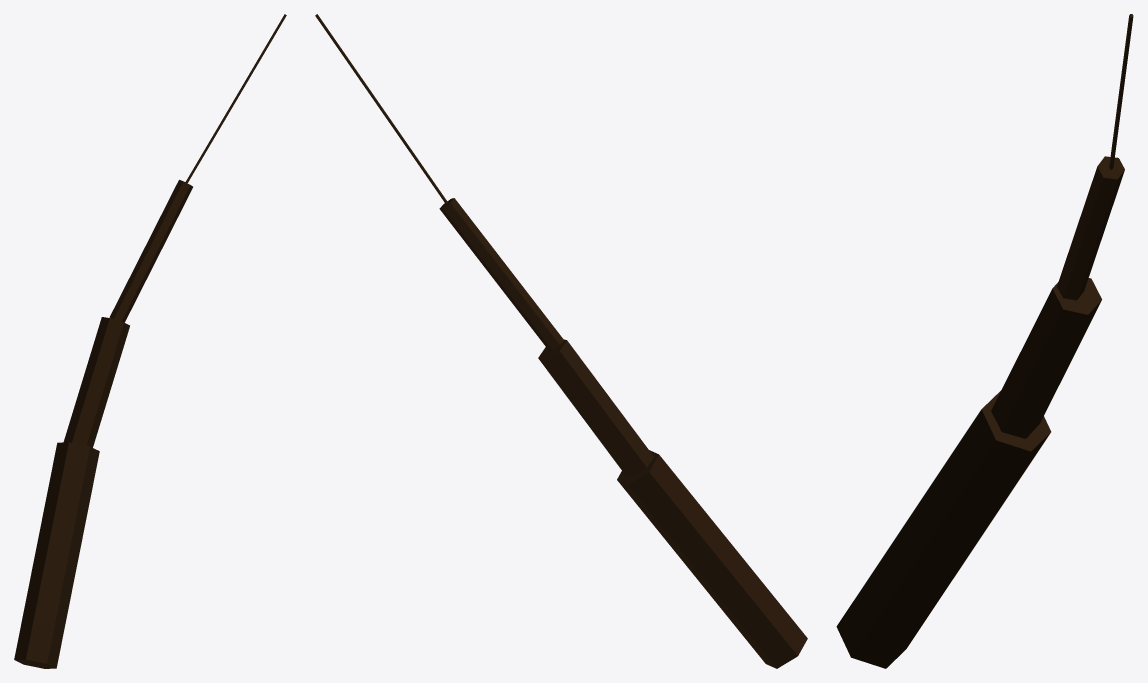
File: 2022_tree_548_no_leaf.obj
3 renders of one model, left to right at view 1: azimuth 30°, elevation 25°; view 2: azimuth 150°, elevation 25°; view 3: azimuth 270°, elevation 25°, orthographic. The views are drawn at different scales.
Visible parts, largest first — view 1: TrunkAndBranches; view 2: TrunkAndBranches; view 3: TrunkAndBranches.
Boxes of the visible parts, <box> form: TrunkAndBranches: <box>14,14,286,668</box>; TrunkAndBranches: <box>315,14,807,668</box>; TrunkAndBranches: <box>836,14,1133,668</box>.
Bounding box in the file's own units: 0.7858 × 1.16 × 0.3401.
